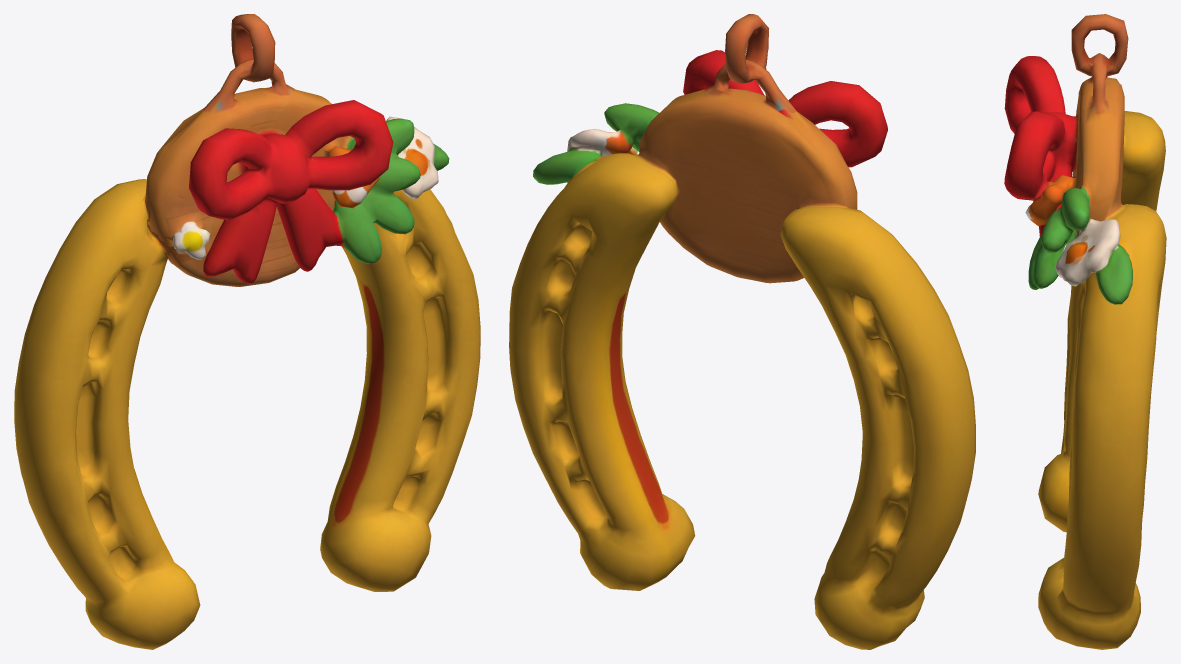
3 renders of one model, left to right at view 1: azimuth 30°, elevation 25°; view 2: azimuth 150°, elevation 25°; view 3: azimuth 270°, elevation 25°, orthographic. The views are drawn at different scales.
Parts seen in each view (by area): view 1: horseshoe; view 2: horseshoe; view 3: horseshoe.
Part boxes in pixels (x1,y1,x2,y2): horseshoe: (14, 14, 480, 649); horseshoe: (509, 14, 975, 649); horseshoe: (1004, 14, 1166, 649).
Bounding box in the file's own units: 0.7104 × 0.9 × 0.2309.
Materials: 1 (1 with a texture image).
